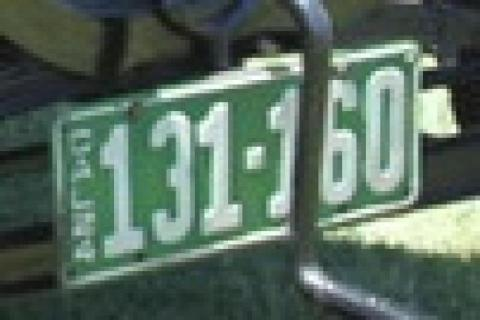LicensePlate: (44, 25, 452, 299)
